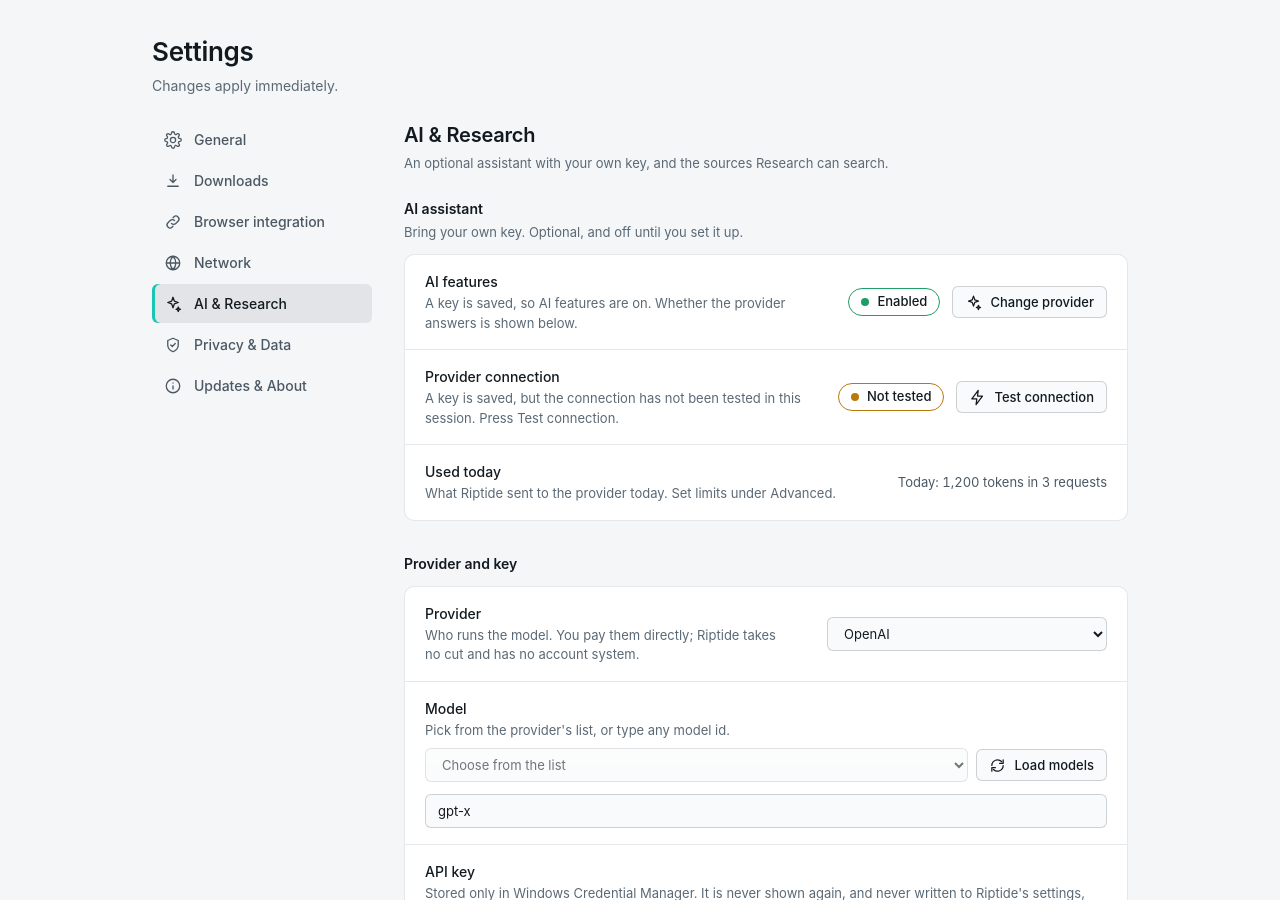
SettingsPageComponent AI status › configured but the last test failed: enabled, provider not answering, with the reason
The image size is (1280, 900).
Click the button "Test connection" at (1032, 397), box [956, 381, 1107, 413]
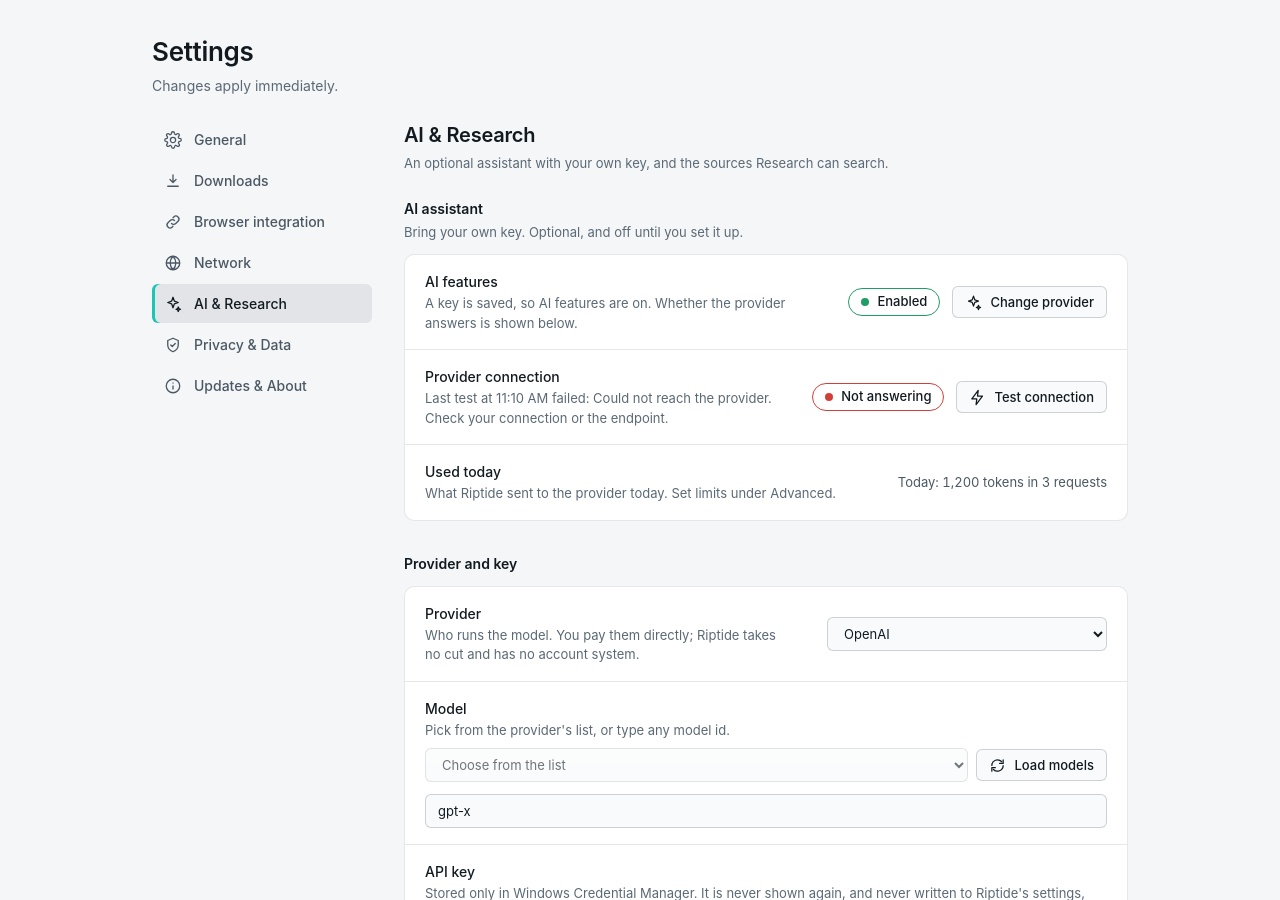
Expected: the message with test id "ai-enabled" reads "Enabled", [877, 293, 927, 309]
Expected: the message with test id "ai-provider" reads "Not answering", [841, 388, 932, 404]
Expected: the element that starts with "Provider connection" shows "failed", [425, 390, 772, 426]
